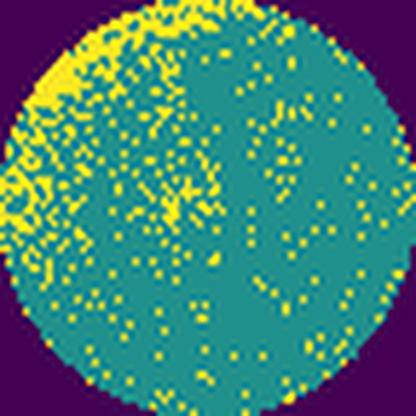Edge-Loc: (0, 0, 270, 129)
